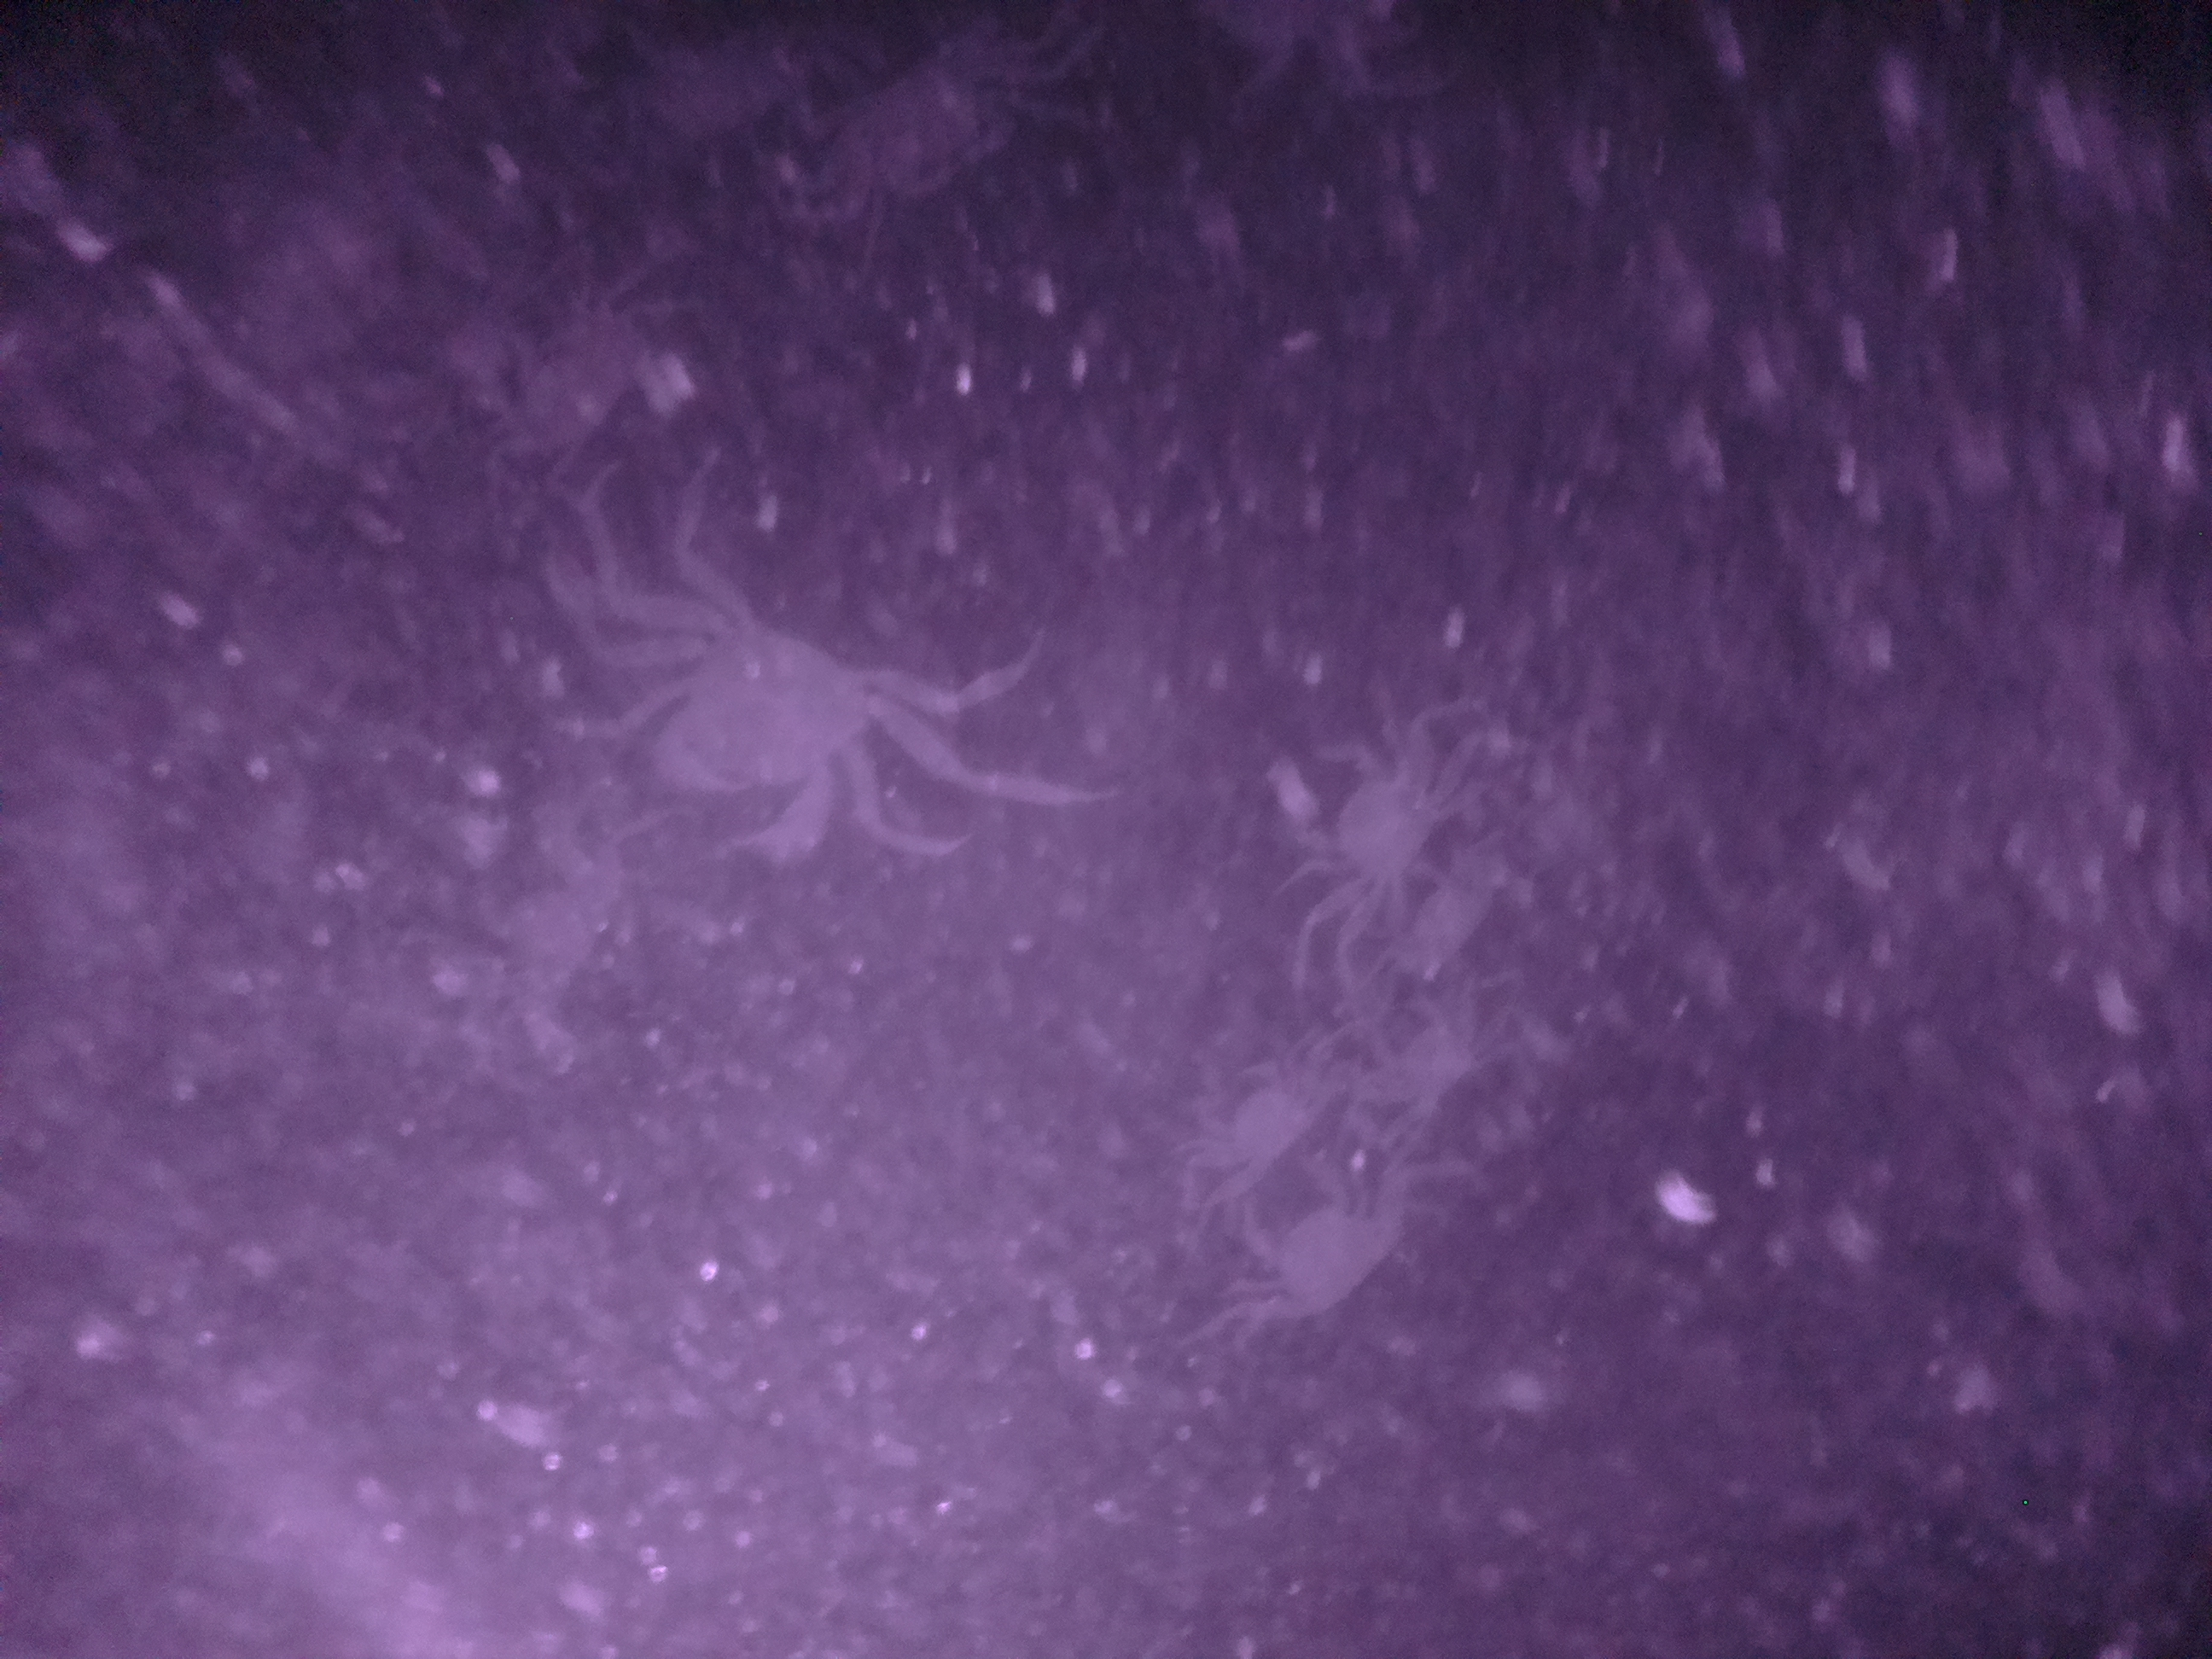Crab: (1280, 725, 1460, 927), (1224, 1138, 1397, 1347)
